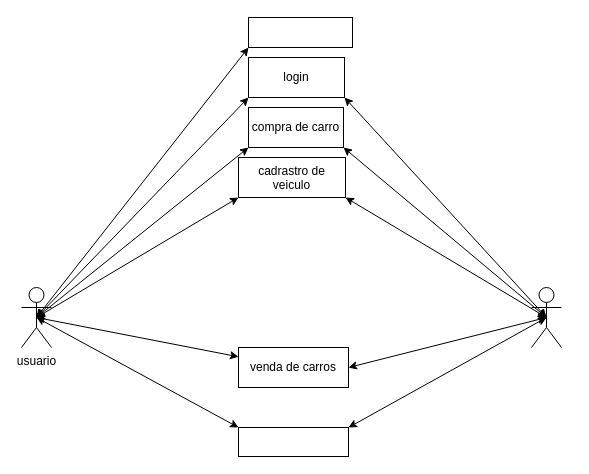
The diagram is 589 pixels wide and 474 high, and some of its shapes have lost their labels. Each missing label, with the centre of its shape:
"cadastro" belongs at point 300,32.
"confirmação de venda" belongs at point 293,441.
"vendedor" belongs at point 546,317.
